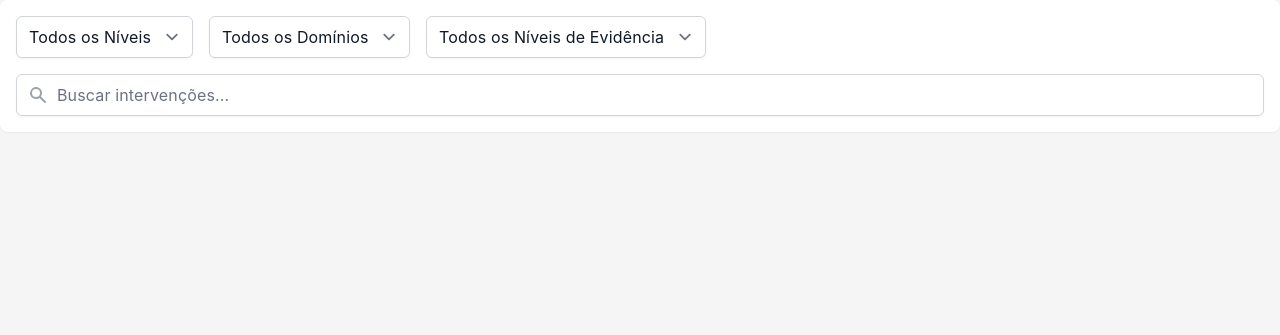
it: InterventionGallery › filtra por domínio
Select "Acadêmico" in the dropdown with test id "domain-select" at (310, 37), box top-left (209, 16), bottom-right (410, 58)
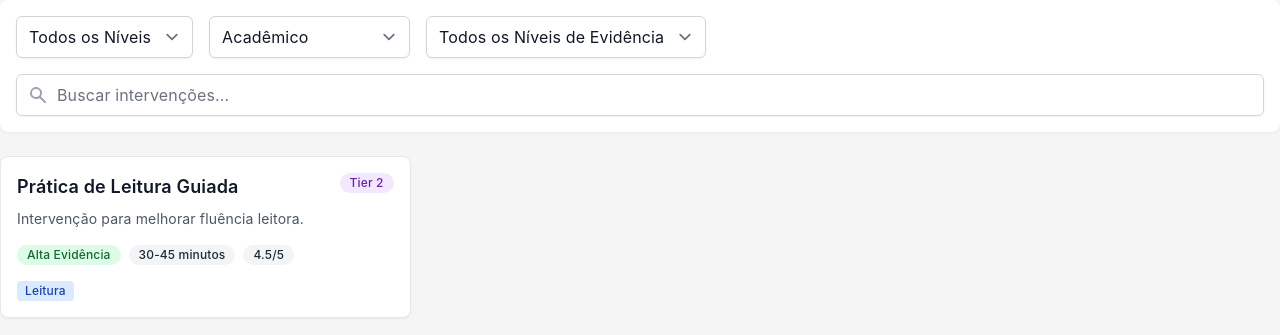
Expected: the heading "Prática de Leitura Guiada" is shown, top-left (17, 173), bottom-right (239, 201)
